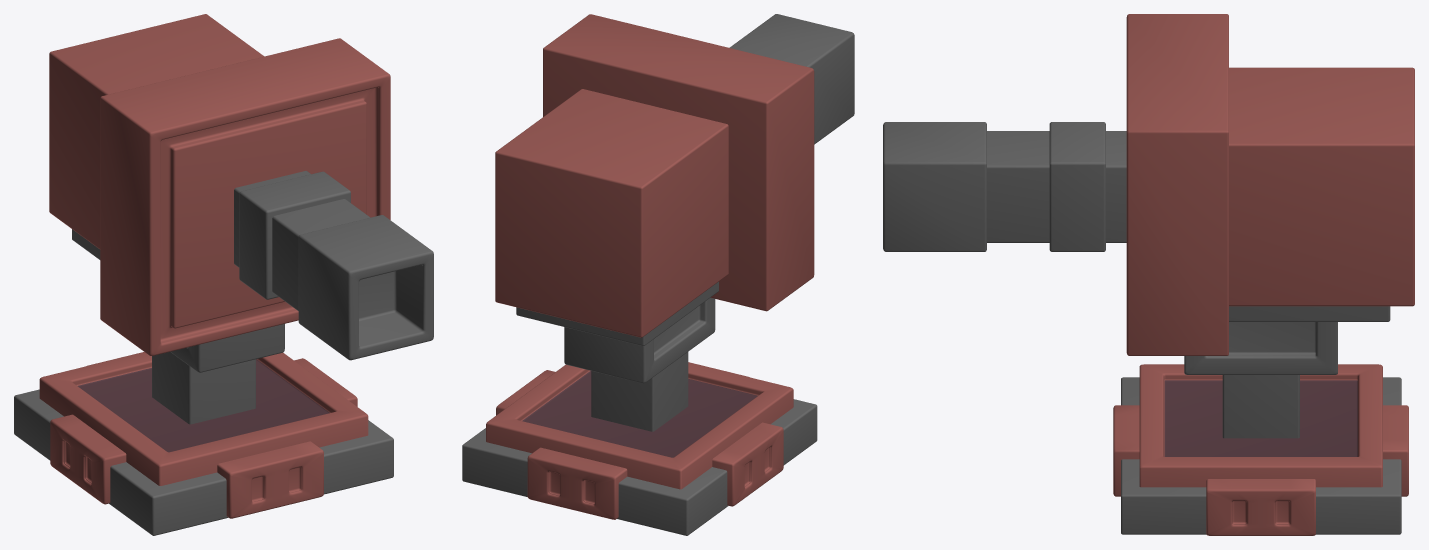
Rendered from FixedTurret.fbx.
The picture shows the model from 3 angles, left to right: view 1: azimuth 30°, elevation 25°; view 2: azimuth 150°, elevation 25°; view 3: azimuth 270°, elevation 25°; orthographic projection. The views are drawn at different scales.
Visible parts, largest first — view 1: 立方体.009, 立方体.004, 立方体.011; view 2: 立方体.009, 立方体.004, 立方体.011; view 3: 立方体.009, 立方体.004, 立方体.011.
Boxes of the visible parts, bbox=[...] form: 立方体.009: bbox=[49, 14, 390, 355]; 立方体.004: bbox=[14, 324, 393, 535]; 立方体.011: bbox=[234, 171, 433, 360]; 立方体.009: bbox=[495, 14, 814, 346]; 立方体.004: bbox=[462, 297, 817, 535]; 立方体.011: bbox=[729, 14, 854, 144]; 立方体.009: bbox=[1126, 14, 1414, 355]; 立方体.004: bbox=[1113, 322, 1408, 535]; 立方体.011: bbox=[883, 122, 1126, 251].
Bounding box in the file's own units: 1.29 × 1.94 × 2.32.
